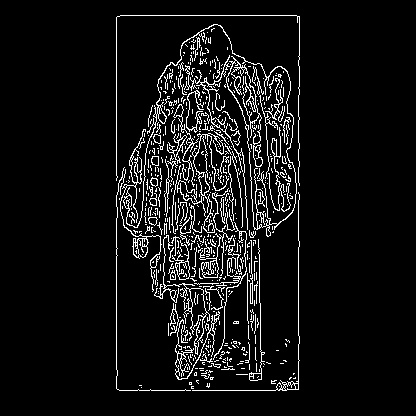buddha-standing: (21, 97, 208, 184)
